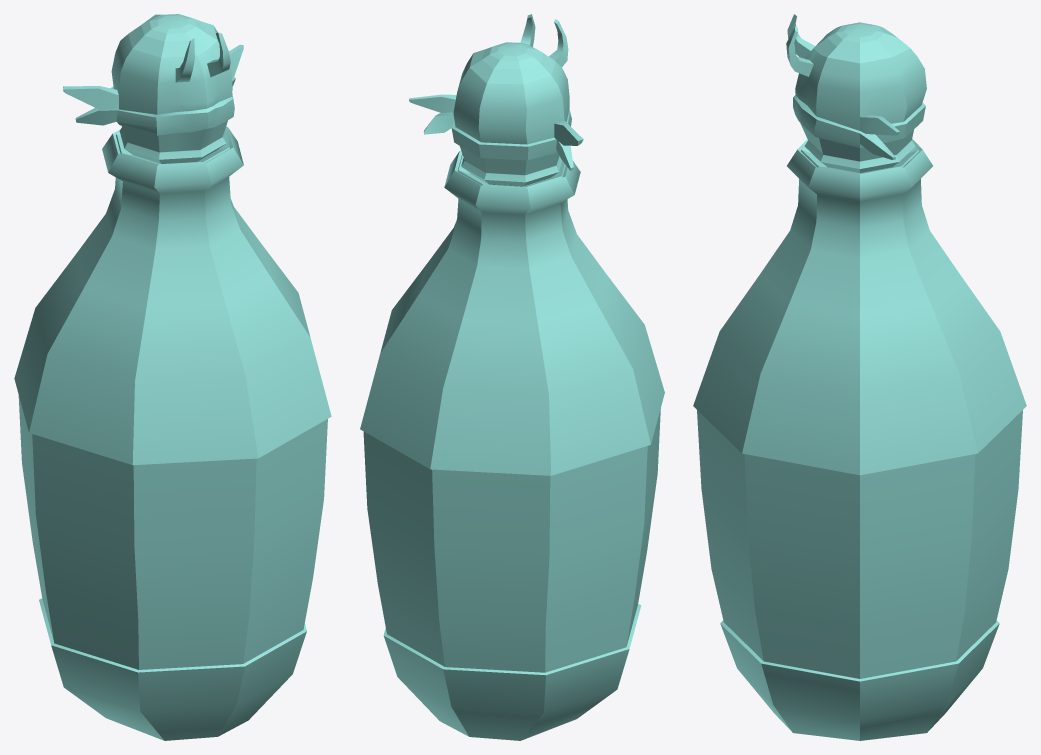
File: Invi.fbx
3 renders of one model, left to right at view 1: azimuth 30°, elevation 25°; view 2: azimuth 150°, elevation 25°; view 3: azimuth 270°, elevation 25°, orthographic. The views are drawn at different scales.
Parts seen in each view (by area): view 1: invisibility_potion, invisibility_potion_tapita; view 2: invisibility_potion, invisibility_potion_tapita; view 3: invisibility_potion, invisibility_potion_tapita.
Boxes of the visible parts, x1,y1,x2,y2 form: invisibility_potion: (14, 126, 331, 740); invisibility_potion_tapita: (63, 14, 243, 164); invisibility_potion: (360, 150, 664, 740); invisibility_potion_tapita: (409, 14, 583, 186); invisibility_potion: (693, 139, 1026, 740); invisibility_potion_tapita: (786, 14, 926, 173).
Size of the model in its own units: 4.17 by 9.62 by 4.2.
